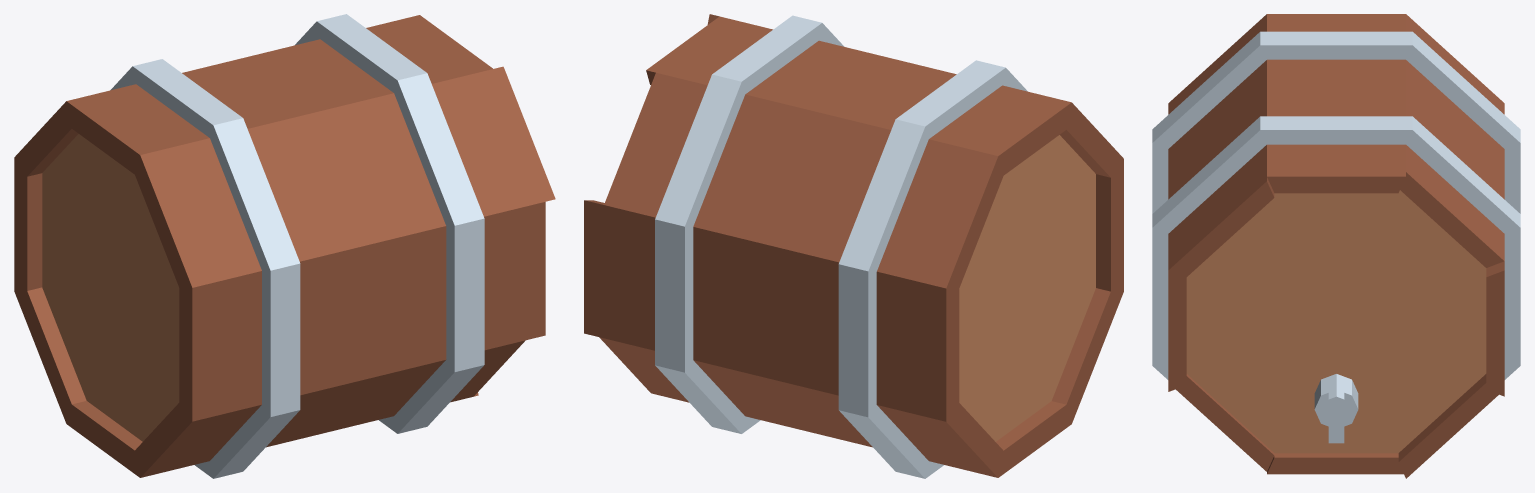
Rendered from barrel.fbx.
3 views of the same model, side by side, from view 1: azimuth 30°, elevation 25°; view 2: azimuth 150°, elevation 25°; view 3: azimuth 270°, elevation 25° (orthographic). The views are drawn at different scales.
Visible parts, largest first — view 1: barrel; view 2: barrel; view 3: barrel.
Part boxes in pixels (x1,y1,x2,y2): barrel: (14,14,555,478); barrel: (584,14,1123,478); barrel: (1152,14,1520,478).
Size of the model in its own units: 7.6 by 6.79 by 6.79.
